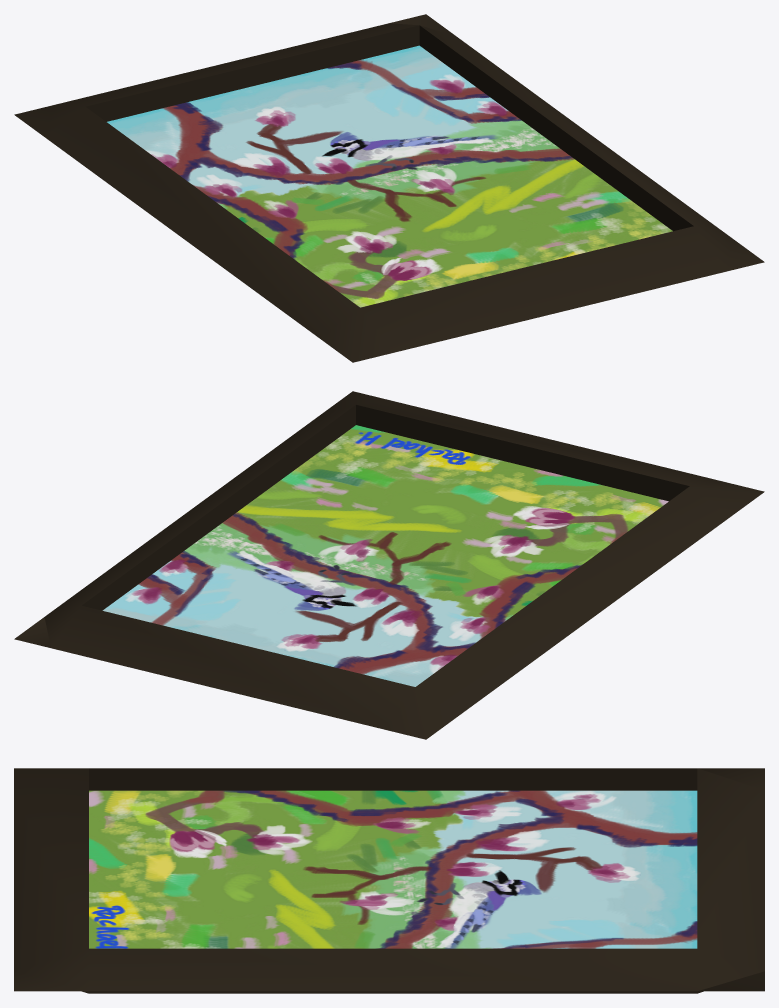
File: Painting15.fbx
3 views of the same model, one above another, from view 1: azimuth 30°, elevation 25°; view 2: azimuth 150°, elevation 25°; view 3: azimuth 270°, elevation 25° (orthographic). The views are drawn at different scales.
Visible parts, largest first — view 1: pPlane1, pCube1; view 2: pPlane1, pCube1; view 3: pPlane1, pCube1.
Boxes of the visible parts, <box> form: pPlane1: <box>107,45,672,307</box>; pCube1: <box>14,14,764,362</box>; pPlane1: <box>102,425,668,686</box>; pCube1: <box>14,391,764,739</box>; pPlane1: <box>89,790,697,948</box>; pCube1: <box>14,768,764,993</box>.
Bounding box in the file's own units: 4.58 × 0.4312 × 6.53.
2 materials, 1 textured.
